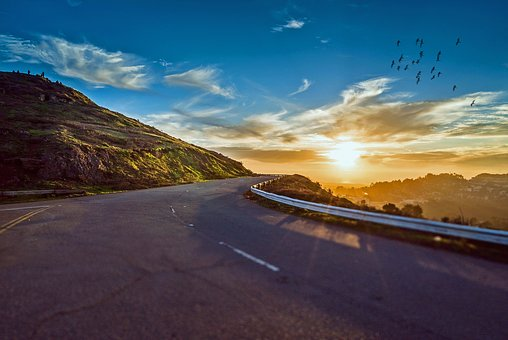mountain: (18, 65, 191, 198)
sky: (11, 4, 498, 171)
